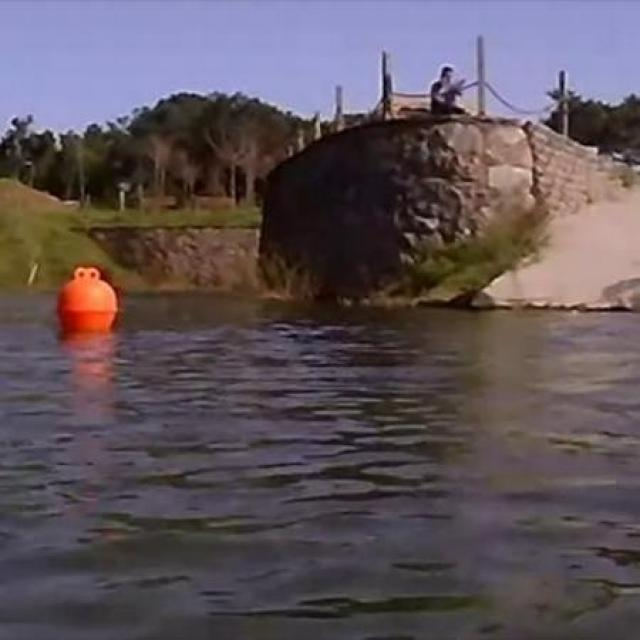buoy: (58, 262, 117, 334)
